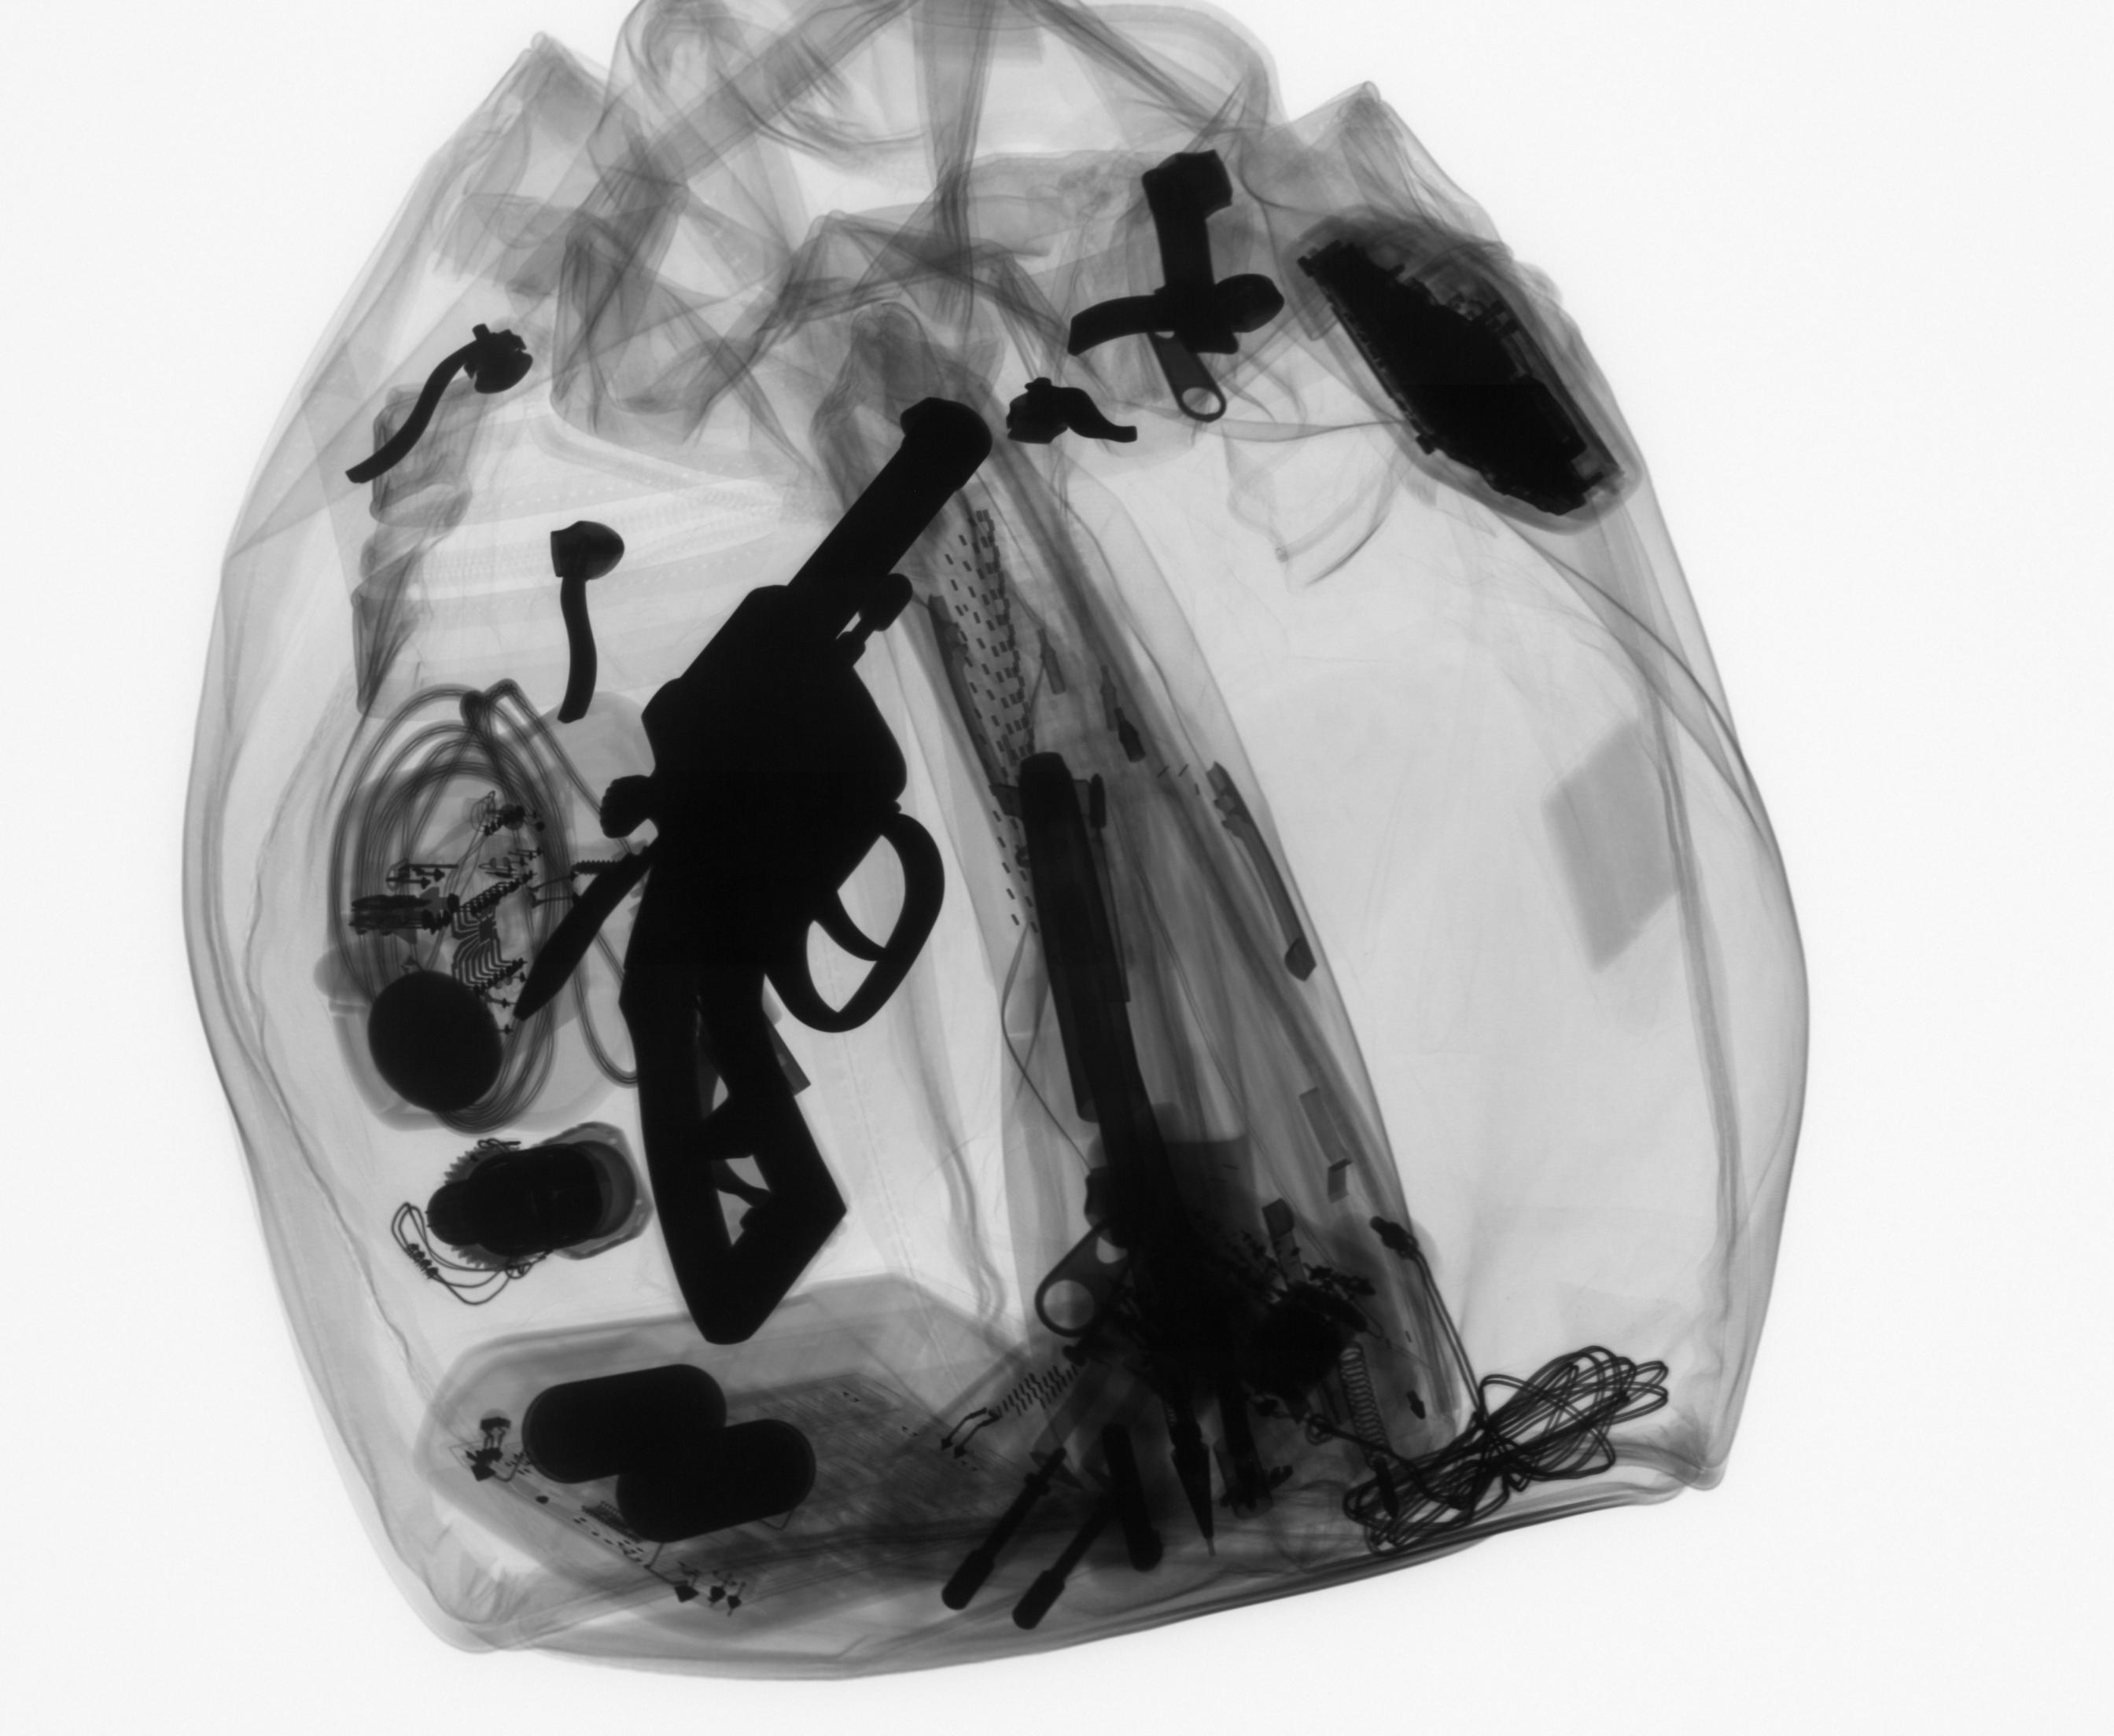Handgun: (586, 384, 997, 1356)
